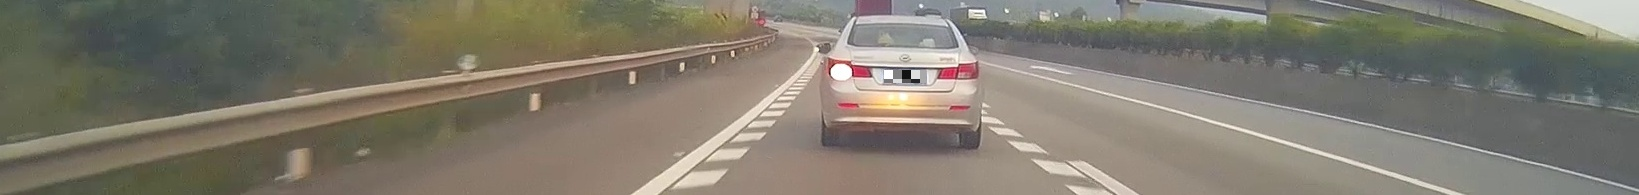L_light: (827, 56, 873, 80)
R_light: (937, 60, 979, 79)
T_light: (891, 24, 917, 27)
day-left: (822, 17, 982, 147)
plate_1: (884, 70, 926, 83)
